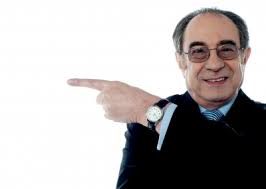hand: (60, 69, 150, 137)
